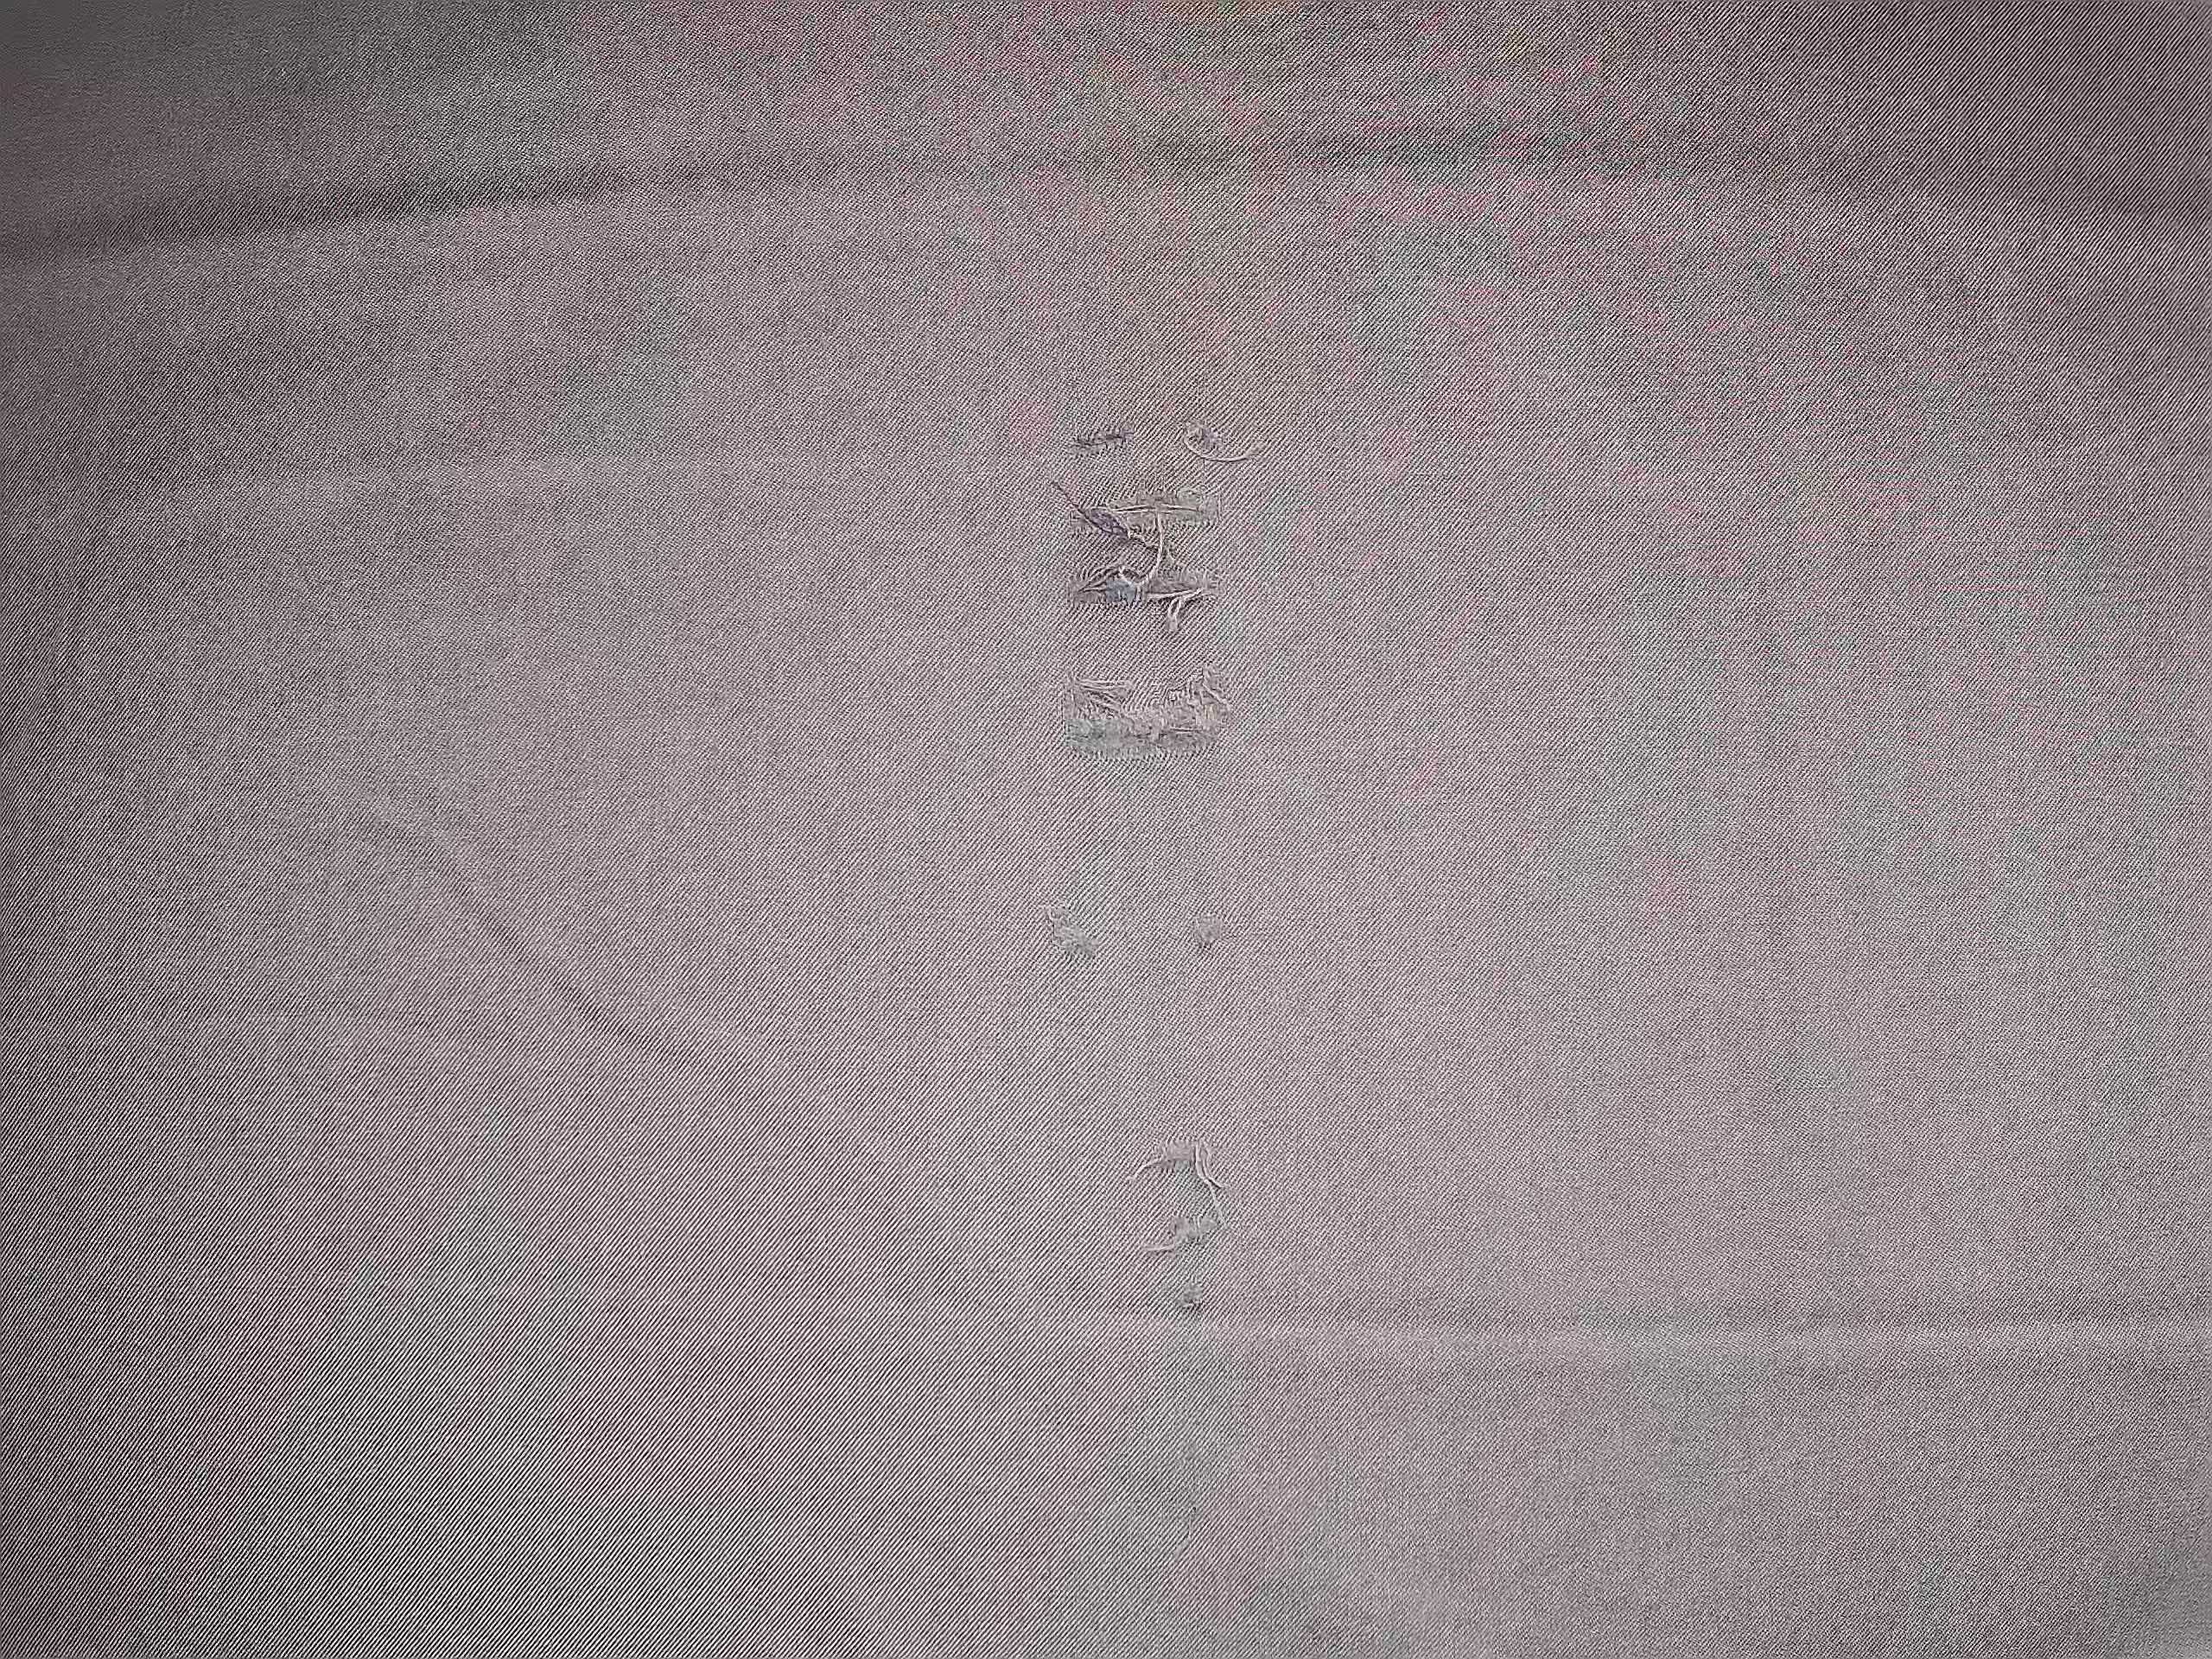puncture-hole: (1040, 401, 1254, 781), (1130, 1127, 1240, 1338), (1031, 897, 1115, 988), (1186, 922, 1231, 971)
